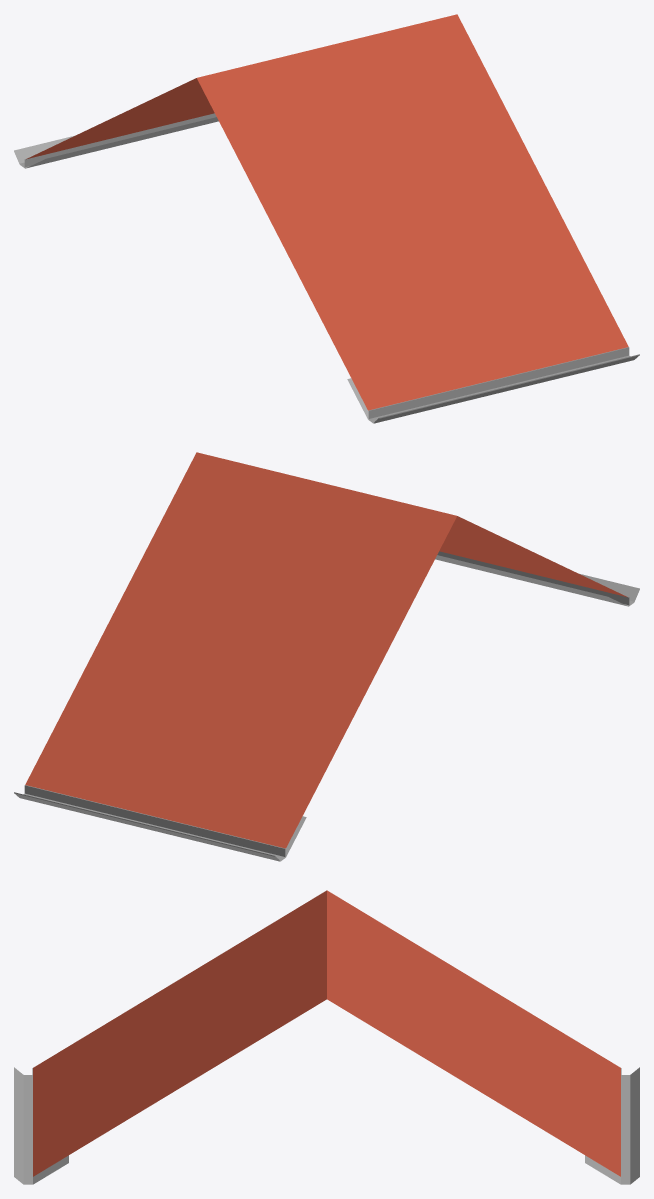
File: MESH_ENV(Telhado_3x6).fbx
The picture shows the model from 3 angles, top to bottom: view 1: azimuth 30°, elevation 25°; view 2: azimuth 150°, elevation 25°; view 3: azimuth 270°, elevation 25°; orthographic projection. The views are drawn at different scales.
Parts seen in each view (by area): view 1: MESH_ENV(Telhado_3x6)_LOD0; view 2: MESH_ENV(Telhado_3x6)_LOD0; view 3: MESH_ENV(Telhado_3x6)_LOD0.
Part boxes in pixels (x1,y1,x2,y2): MESH_ENV(Telhado_3x6)_LOD0: (14,14,639,423); MESH_ENV(Telhado_3x6)_LOD0: (14,452,639,861); MESH_ENV(Telhado_3x6)_LOD0: (14,890,639,1184).
Size of the model in its own units: 300 by 238 by 728.
